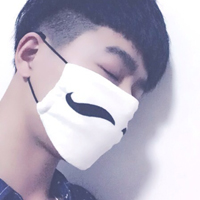face_mask: (41, 23, 152, 157)
